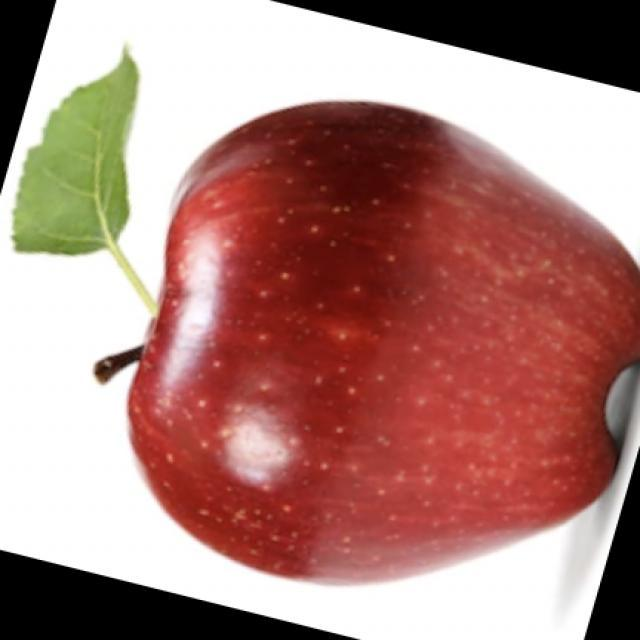Fresh Apple: (133, 96, 640, 584)
